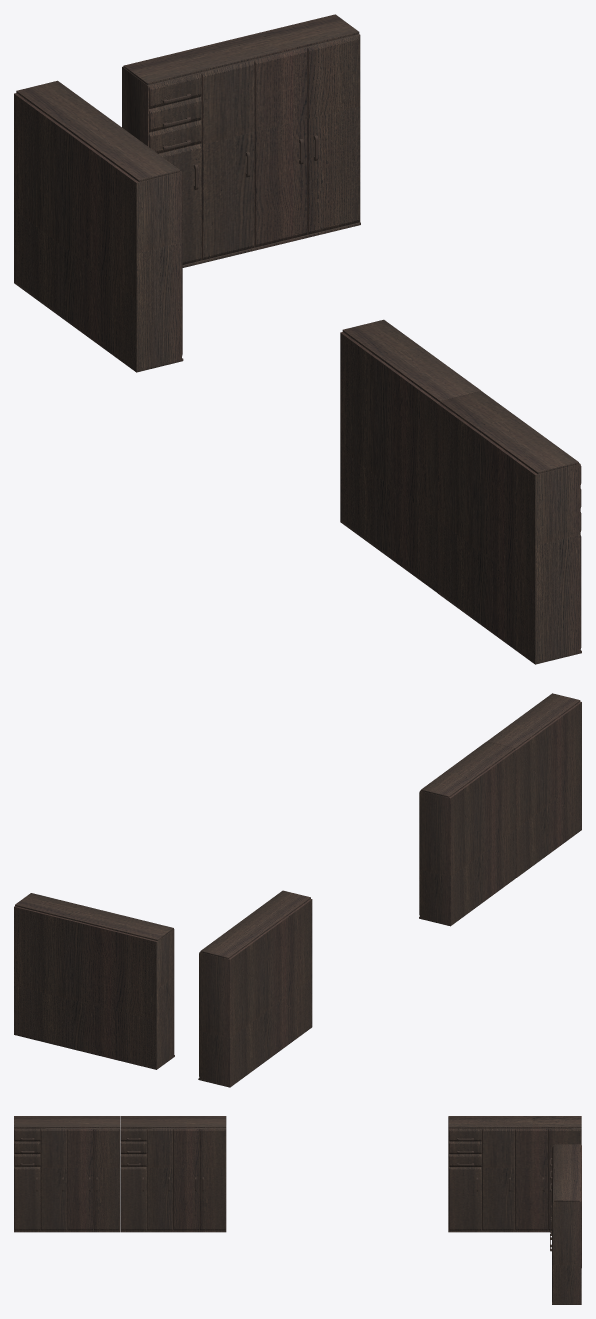
The model's file is Closets.obj.
3 renders of one model, top to bottom at view 1: azimuth 30°, elevation 25°; view 2: azimuth 150°, elevation 25°; view 3: azimuth 270°, elevation 25°, orthographic. The views are drawn at different scales.
Parts seen in each view (by area): view 1: OBJ.001, OBJ, OBJ.003, OBJ.002; view 2: OBJ.001, OBJ, OBJ.002, OBJ.003; view 3: OBJ, OBJ.002, OBJ.003, OBJ.001.
Boxes of the visible parts, x1=… form: OBJ.001: x1=122, y1=14, x2=360, y2=267; OBJ: x1=14, y1=80, x2=183, y2=372; OBJ.003: x1=437, y1=391, x2=581, y2=664; OBJ.002: x1=340, y1=319, x2=480, y2=592; OBJ.001: x1=14, y1=893, x2=174, y2=1069; OBJ: x1=198, y1=890, x2=312, y2=1087; OBJ.002: x1=419, y1=741, x2=515, y2=926; OBJ.003: x1=487, y1=693, x2=581, y2=877; OBJ: x1=448, y1=1116, x2=581, y2=1232; OBJ.002: x1=120, y1=1116, x2=226, y2=1232; OBJ.003: x1=14, y1=1116, x2=119, y2=1232; OBJ.001: x1=550, y1=1144, x2=581, y2=1304.
Bounding box in the file's own units: 17.47 × 10 × 49.24.
3 materials, 3 textured.
